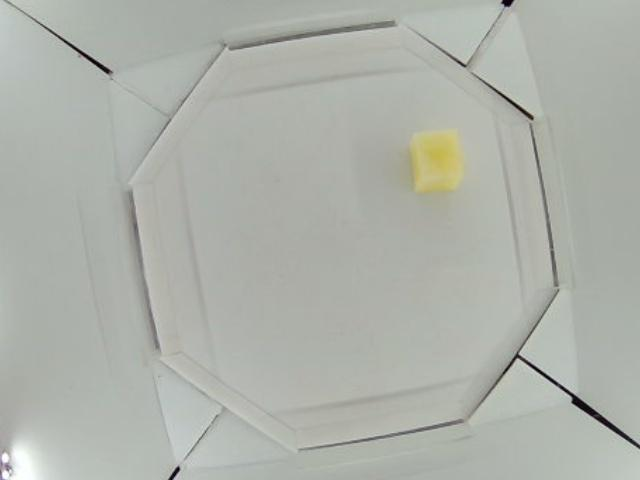Potato: (410, 134, 461, 194)
